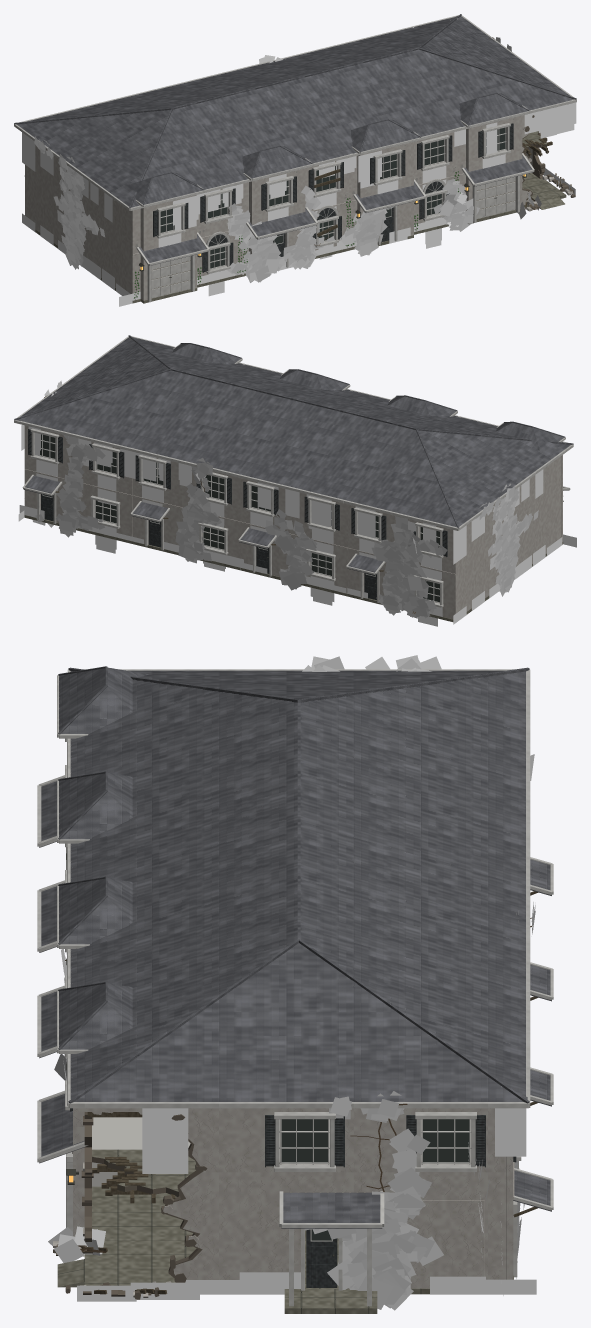
The model's file is kit_row4_damaged_v2.glb.
3 renders of one model, top to bottom at view 1: azimuth 30°, elevation 25°; view 2: azimuth 150°, elevation 25°; view 3: azimuth 270°, elevation 25°, orthographic. The views are drawn at different scales.
Parts seen in each view (by area): view 1: Unit_01_Batched.002, Roof_Left_Shingled.003, Roof_Middle_Shingled.007, Roof_Middle_Shingled.006, kit_row4_damaged_Grime, kit_row4_damaged_Ivy, Roof_Right_Shingled.001, Unit_03_Batched.002, Unit_02_Batched.003, Unit_RightEnd_Base_DamageReady_Batched, Roof_Left_Eave_Trim.003, Projecting_Bay_Shingle_Cap.001 (+10 smaller); view 2: kit_row4_damaged_Ivy, Roof_Left_Shingled.003, Roof_Middle_Shingled.006, Roof_Middle_Shingled.007, kit_row4_damaged_Grime, Unit_01_Batched.002, Roof_Right_Shingled.001, Unit_03_Batched.002, Unit_RightEnd_Base_DamageReady_Batched, Unit_02_Batched.003, Roof_Left_Eave_Trim.003, Roof_Right_Eave_Trim.001 (+6 smaller); view 3: Unit_RightEnd_Base_DamageReady_Batched, Roof_Right_Shingled.001, Roof_Middle_Shingled.006, Roof_Middle_Shingled.007, Roof_Left_Shingled.003, kit_row4_damaged_Ivy, kit_row4_damaged_Grime, Corner_Damaged_Batched, Roof_Right_Eave_Trim.001, Projecting_Bay_Shingle_Cap.001, Projecting_Bay_Shingle_Cap.004, Projecting_Bay_Shingle_Cap.012 (+8 smaller).
Part boxes in pixels (left/top/right/bottom): Unit_01_Batched.002: left=24, top=145, right=242, bottom=303; Roof_Left_Shingled.003: left=17, top=96, right=243, bottom=207; Roof_Middle_Shingled.007: left=239, top=43, right=460, bottom=153; Roof_Middle_Shingled.006: left=131, top=70, right=352, bottom=179; kit_row4_damaged_Grime: left=22, top=102, right=576, bottom=306; kit_row4_damaged_Ivy: left=34, top=18, right=541, bottom=282; Roof_Right_Shingled.001: left=347, top=16, right=573, bottom=126; Unit_03_Batched.002: left=349, top=132, right=459, bottom=250; Unit_02_Batched.003: left=241, top=161, right=350, bottom=276; Unit_RightEnd_Base_DamageReady_Batched: left=457, top=115, right=566, bottom=224; Roof_Left_Eave_Trim.003: left=14, top=95, right=245, bottom=210; Projecting_Bay_Shingle_Cap.001: left=123, top=172, right=202, bottom=204; kit_row4_damaged_Ivy: left=32, top=380, right=538, bottom=618; Roof_Left_Shingled.003: left=345, top=417, right=570, bottom=527; Roof_Middle_Shingled.006: left=237, top=390, right=457, bottom=499; Roof_Middle_Shingled.007: left=129, top=364, right=349, bottom=473; kit_row4_damaged_Grime: left=18, top=424, right=576, bottom=626; Unit_01_Batched.002: left=346, top=455, right=570, bottom=621; Roof_Right_Shingled.001: left=16, top=337, right=242, bottom=447; Unit_03_Batched.002: left=130, top=455, right=240, bottom=569; Unit_RightEnd_Base_DamageReady_Batched: left=22, top=425, right=132, bottom=543; Unit_02_Batched.003: left=238, top=478, right=347, bottom=596; Roof_Left_Eave_Trim.003: left=344, top=416, right=573, bottom=530; Roof_Right_Eave_Trim.001: left=14, top=335, right=243, bottom=450; Unit_RightEnd_Base_DamageReady_Batched: left=37, top=1054, right=553, bottom=1313; Roof_Right_Shingled.001: left=70, top=927, right=527, bottom=1101; Roof_Middle_Shingled.006: left=70, top=717, right=525, bottom=886; Roof_Middle_Shingled.007: left=70, top=822, right=525, bottom=991; Roof_Left_Shingled.003: left=70, top=670, right=525, bottom=780; kit_row4_damaged_Ivy: left=48, top=655, right=535, bottom=1310; kit_row4_damaged_Grime: left=77, top=1108, right=536, bottom=1301; Corner_Damaged_Batched: left=57, top=1108, right=207, bottom=1287; Roof_Right_Eave_Trim.001: left=67, top=924, right=530, bottom=1108; Projecting_Bay_Shingle_Cap.001: left=59, top=667, right=148, bottom=733; Projecting_Bay_Shingle_Cap.004: left=59, top=773, right=132, bottom=839; Projecting_Bay_Shingle_Cap.012: left=59, top=878, right=132, bottom=944.
Size of the model in its own units: 32.03 by 9.79 by 15.36.
Materials: 16 (6 with a texture image).
